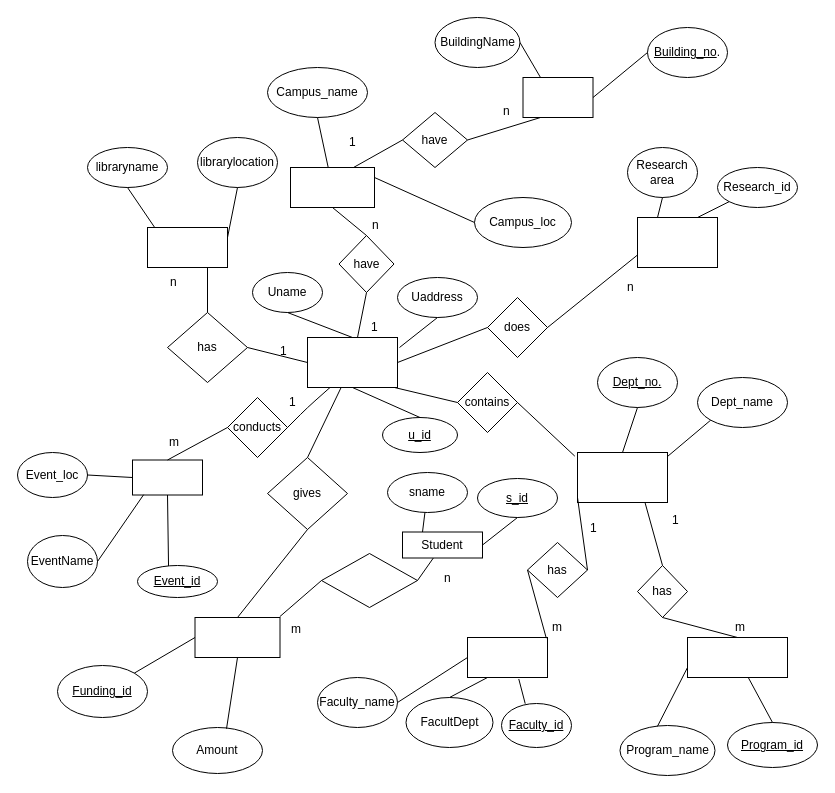
This 835x793 diagram has some shape labels left out. Each missing label, with the centre of its shape:
"Buildings" goes at point 557,97.
"Campuses" goes at point 332,187.
"Department" goes at point 622,477.
"Events" goes at point 167,477.
"Faculty" goes at point 507,657.
"Funding" goes at point 237,637.
"Libraries" goes at point 187,247.
"Programs" goes at point 737,657.
"receives" goes at point 369,580.
"Research" goes at point 677,242.
"University" goes at point 352,362.
